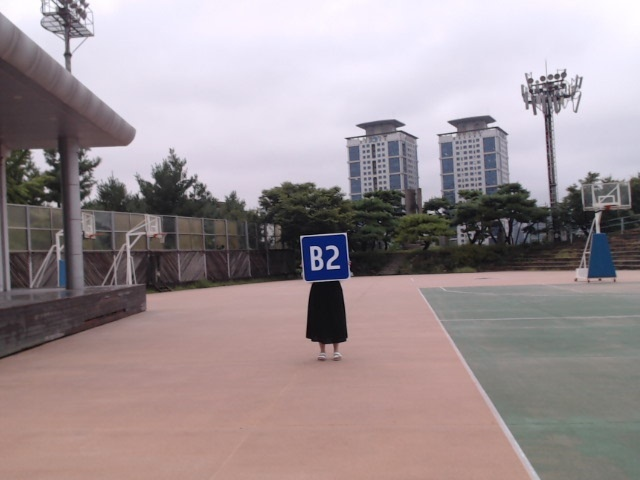delivery_b2: (301, 233, 350, 283)
